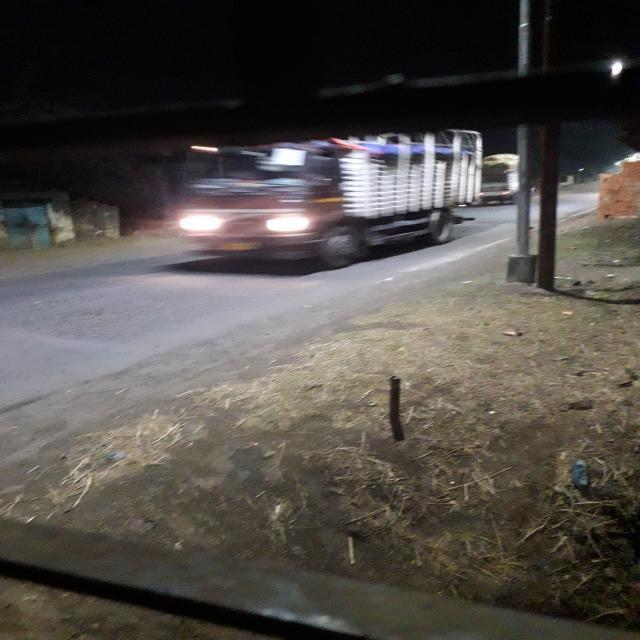truck_front: (167, 123, 483, 270)
